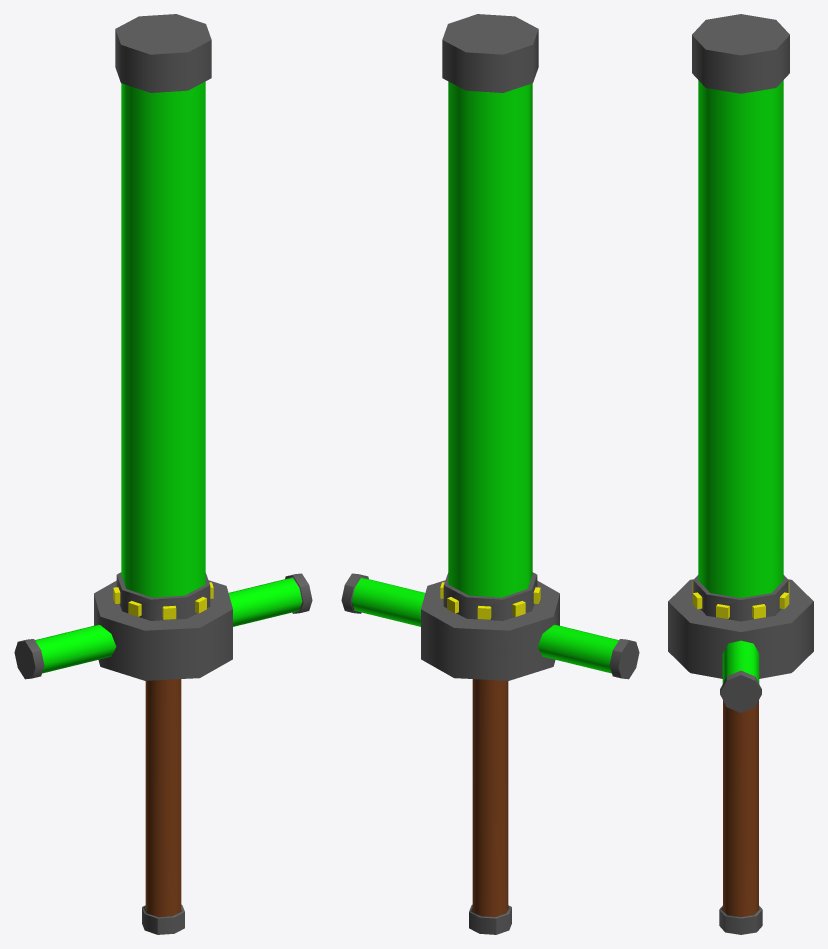
File: glowSwordCircular.fbx
The picture shows the model from 3 angles, left to right: view 1: azimuth 30°, elevation 25°; view 2: azimuth 150°, elevation 25°; view 3: azimuth 270°, elevation 25°; orthographic projection.
Parts seen in each view (by area): view 1: pCube13; view 2: pCube13; view 3: pCube13.
Boxes of the visible parts, <box> form: pCube13: <box>14,14,312,934</box>; pCube13: <box>341,14,639,934</box>; pCube13: <box>668,14,813,934</box>.
Size of the model in its own units: 37.31 by 115 by 17.01.
1 material, 1 textured.
